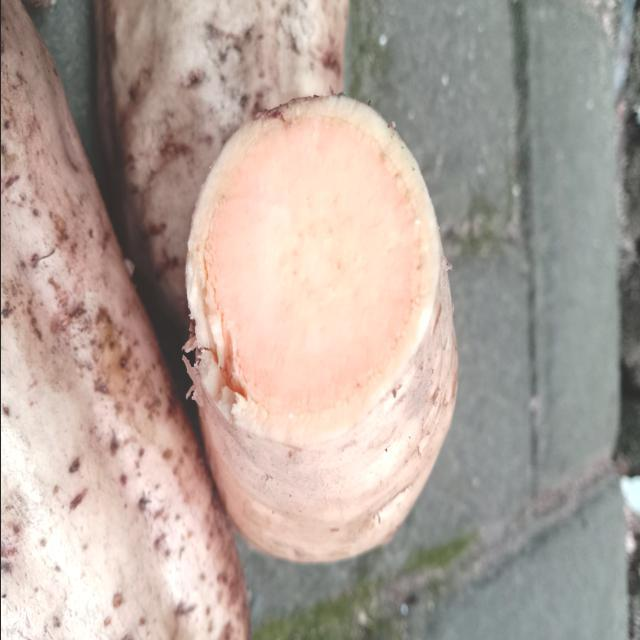Healthy Sweet Potato: (185, 97, 441, 447)
